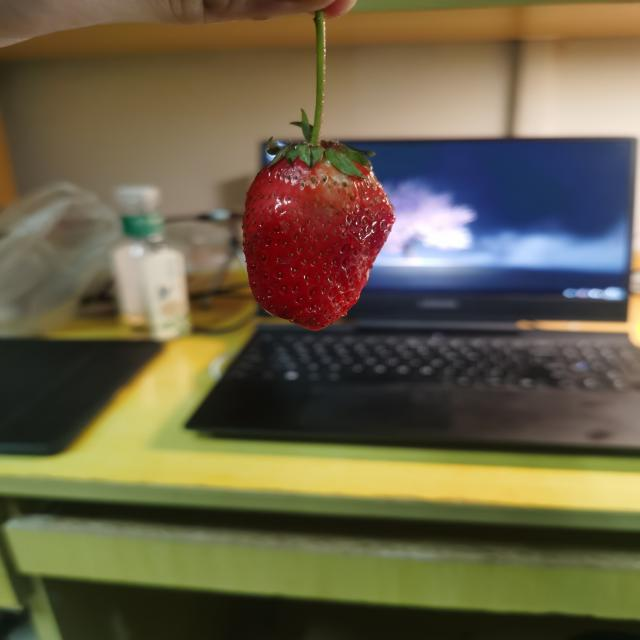stem: (308, 67, 325, 148)
strawberry: (243, 142, 396, 331)
